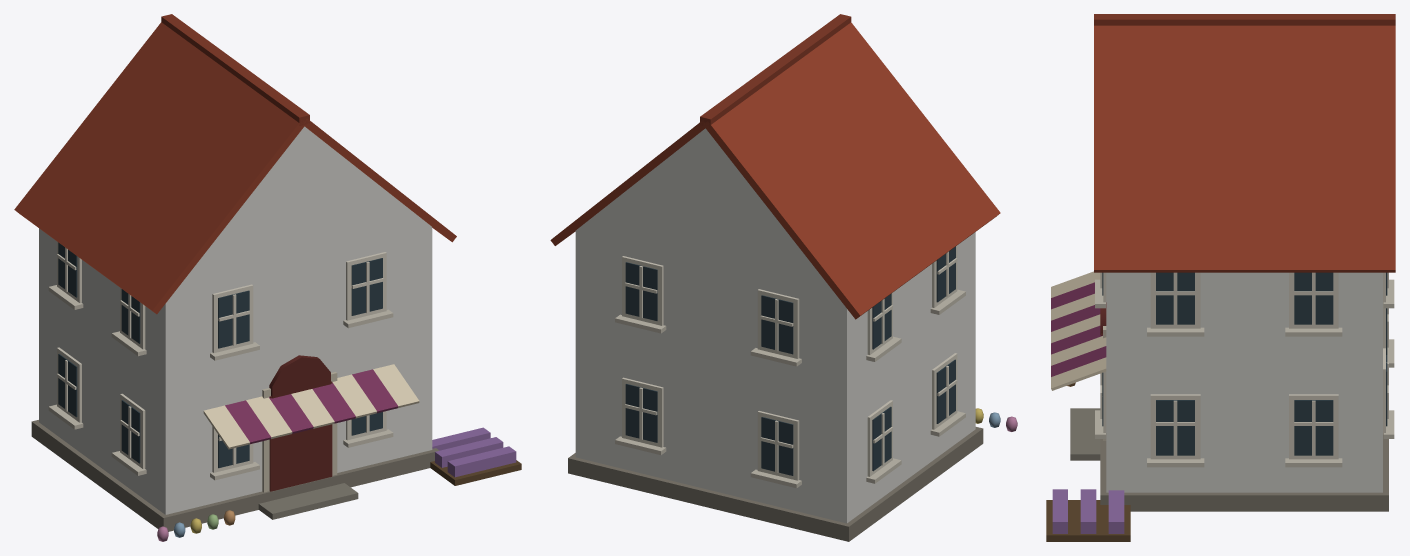
Rendered from procedural_perfumery@4.glb.
3 views of the same model, side by side, from view 1: azimuth 30°, elevation 25°; view 2: azimuth 150°, elevation 25°; view 3: azimuth 270°, elevation 25° (orthographic). The views are drawn at different scales.
Visible parts, largest first — view 1: part_0; view 2: part_0; view 3: part_0.
Boxes of the visible parts, x1,y1,x2,y2 form: part_0: (14, 14, 521, 541); part_0: (550, 14, 1017, 541); part_0: (1046, 14, 1395, 541).
Size of the model in its own units: 7.42 by 7.73 by 5.81.
